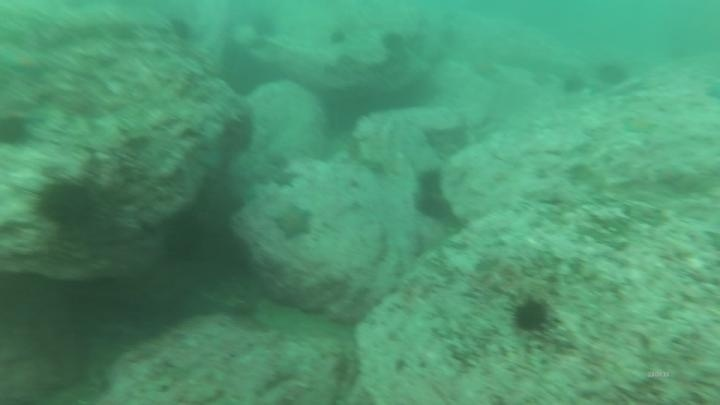echinus: (33, 176, 99, 231), (159, 212, 208, 264), (216, 110, 257, 158), (509, 295, 553, 335), (413, 166, 447, 212), (0, 112, 32, 150), (414, 192, 453, 223), (595, 59, 630, 89), (248, 12, 281, 42), (379, 29, 408, 58), (167, 16, 196, 44), (559, 72, 587, 98), (326, 26, 349, 49)
starfish: (270, 202, 315, 243), (3, 45, 52, 82), (620, 112, 661, 137), (468, 55, 503, 83), (269, 168, 300, 191)
